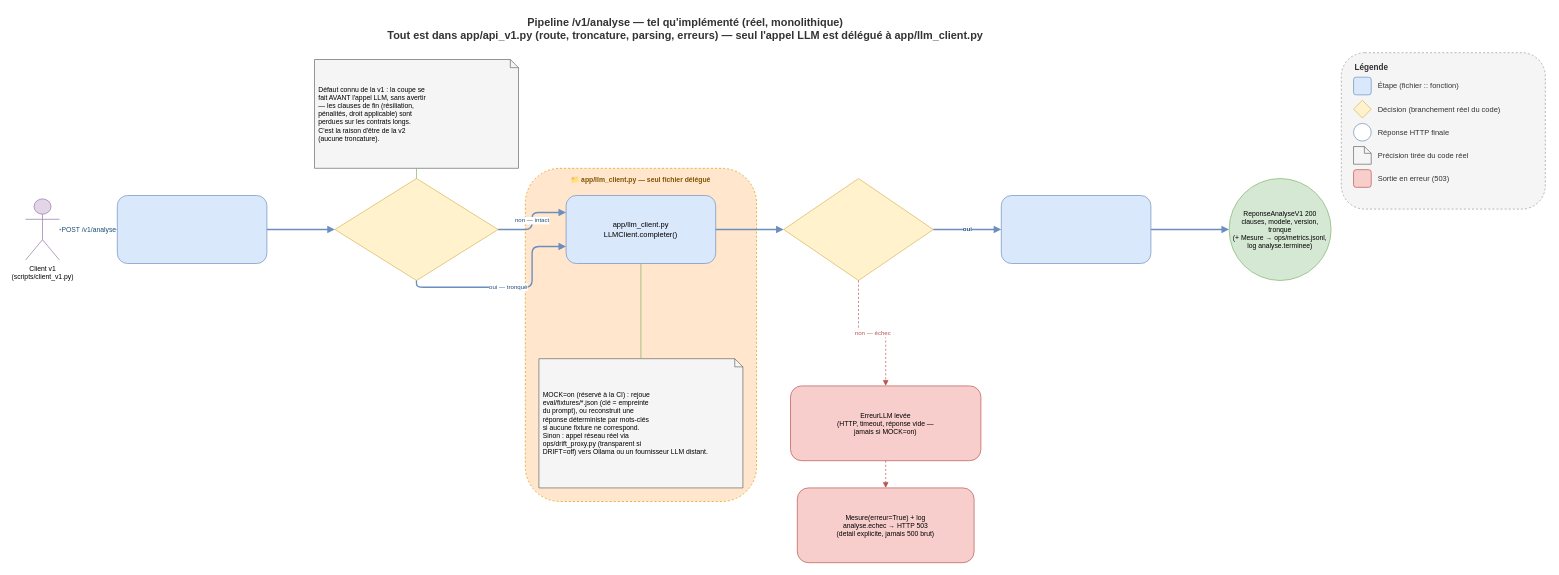
This 1559x575 diagram has some shape labels left out. Here are the shapes that lost their labels. From the top down, the centre of each, then its label:
At (x=192, y=229): "app/api_v1.py analyse() → analyser_v1()".
At (x=416, y=229): "len(texte) > contexte_max_caracteres ? (16 000 car.)".
At (x=858, y=229): "appel réussi ? (réseau réel uniquement)".
At (x=1076, y=229): "app/api_v1.py _parser_clauses()".
